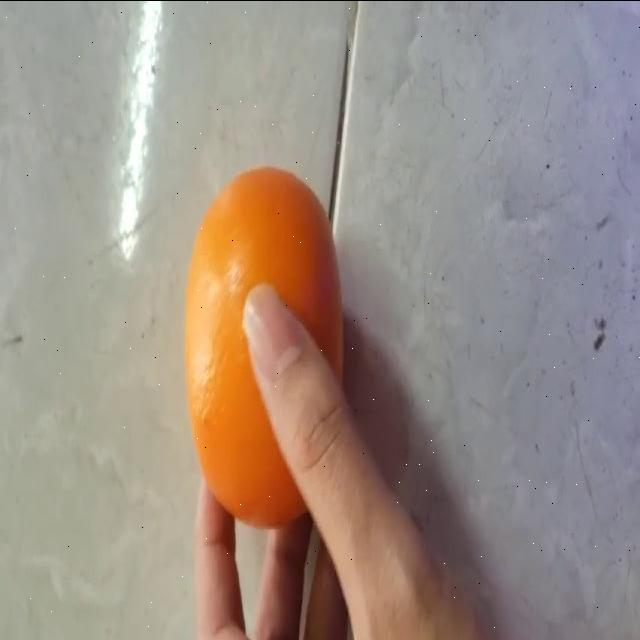Orange: (182, 165, 345, 530)
